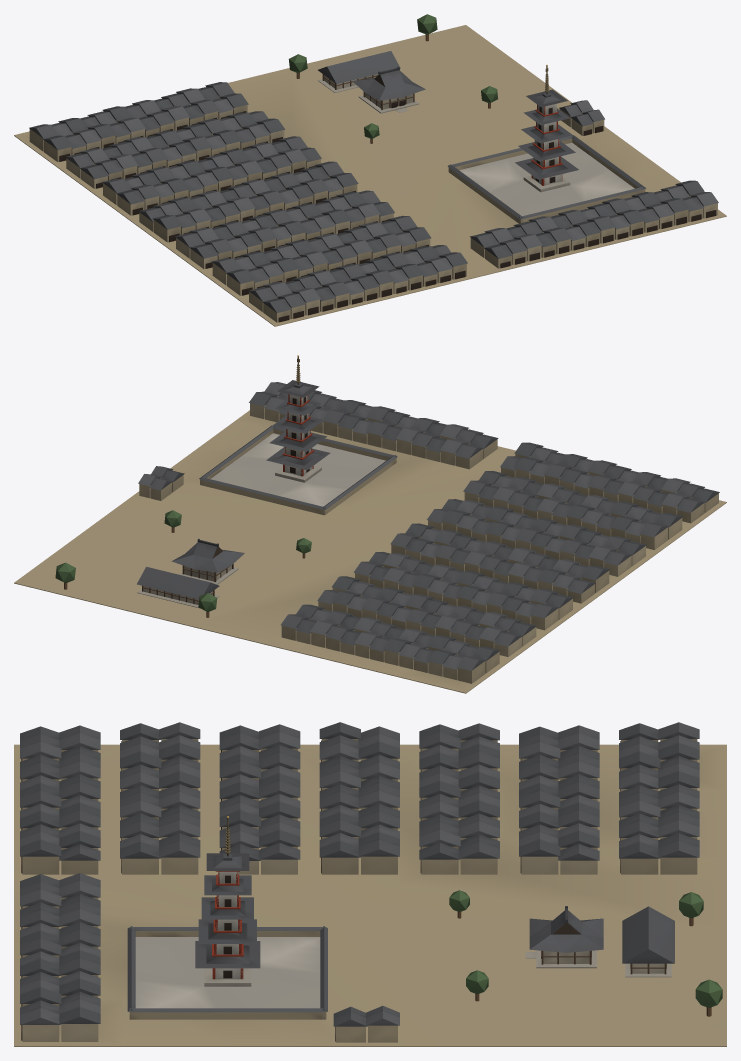
Rendered from gangoji-1700.glb.
3 renders of one model, top to bottom at view 1: azimuth 30°, elevation 25°; view 2: azimuth 150°, elevation 25°; view 3: azimuth 270°, elevation 25°, orthographic. The views are drawn at different scales.
Parts seen in each view (by area): view 1: p1_town, p0_grounds, p2_roofs; view 2: p1_town, p0_grounds, p2_roofs; view 3: p0_grounds, p1_town, p2_roofs.
Part boxes in pixels (bbox=[...]): p1_town: bbox=[29, 74, 718, 322]; p0_grounds: bbox=[14, 25, 726, 326]; p2_roofs: bbox=[288, 14, 578, 192]; p1_town: bbox=[137, 382, 719, 683]; p0_grounds: bbox=[14, 410, 726, 693]; p2_roofs: bbox=[55, 355, 330, 617]; p0_grounds: bbox=[14, 744, 726, 1046]; p1_town: bbox=[20, 722, 699, 1042]; p2_roofs: bbox=[195, 816, 722, 1016].
Size of the model in its own units: 200 by 50.51 by 200.
